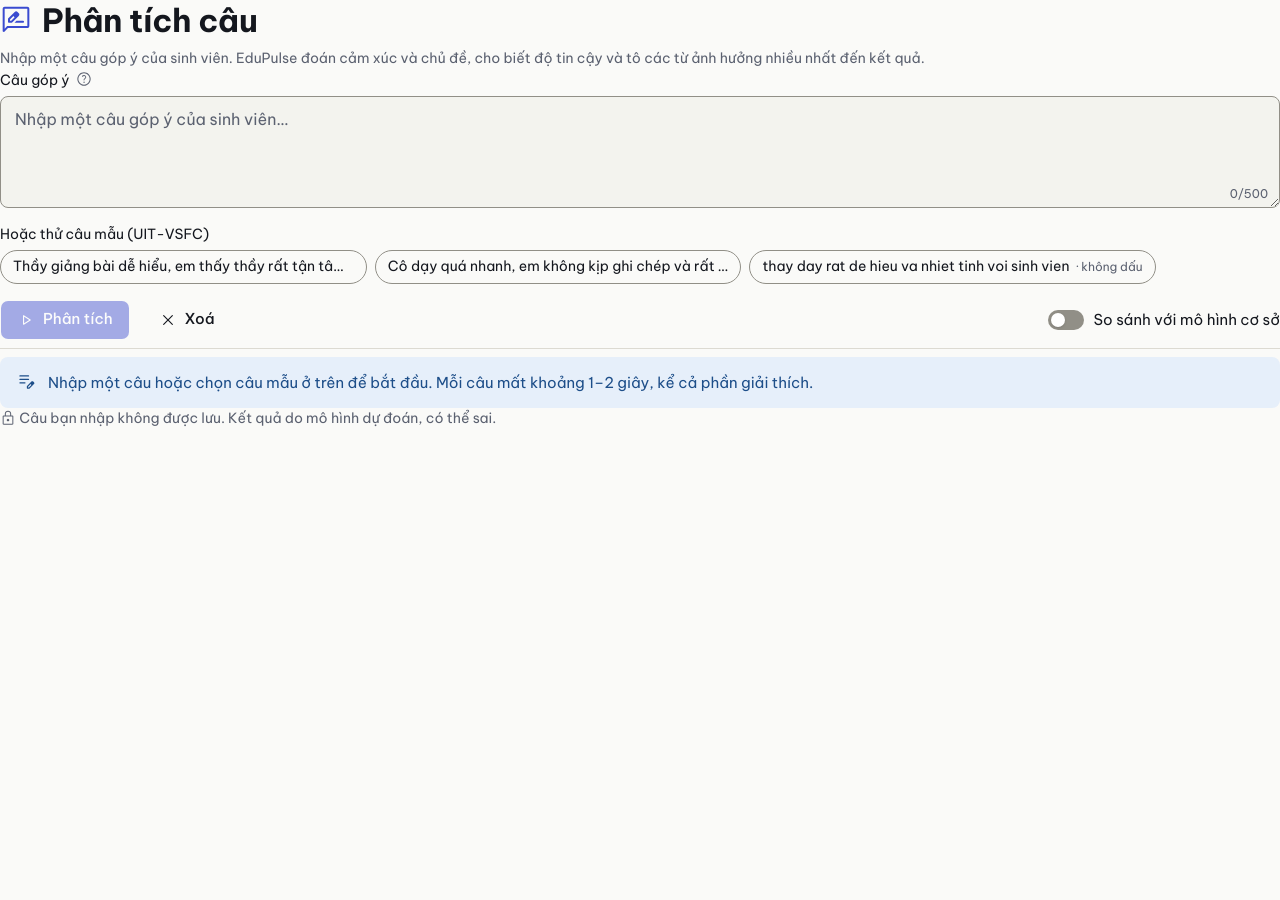
trang Phân tích câu › lỗi mạng: báo bằng tiếng Việt và cho thử lại
Step 1. Click the text box labelled "Câu góp ý" → (640, 152), box [0,96,1279,208]
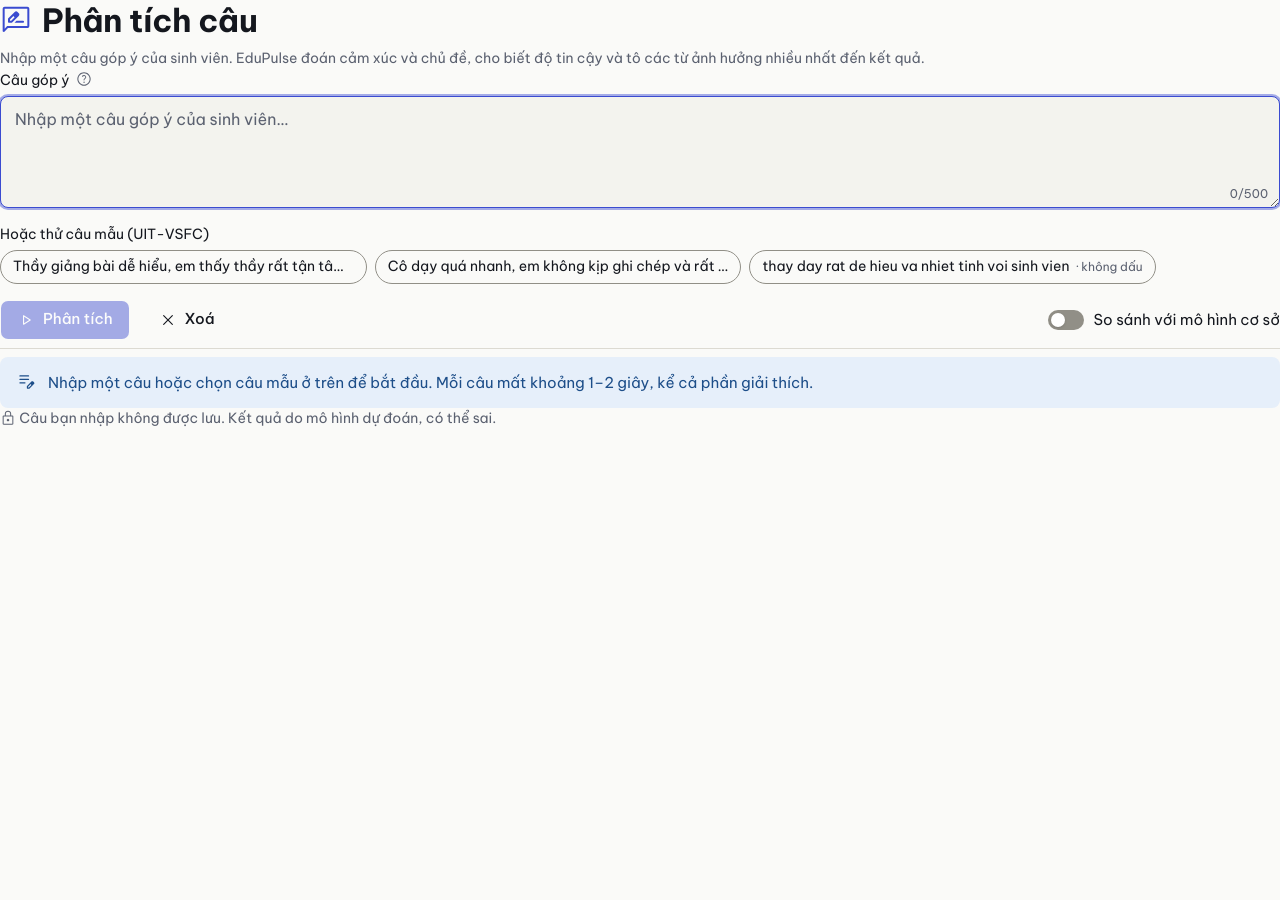
Step 2. Type keys "Cô dạy quá nhanh, em không kịp ghi chép và rất ít khi được hỏi lại."
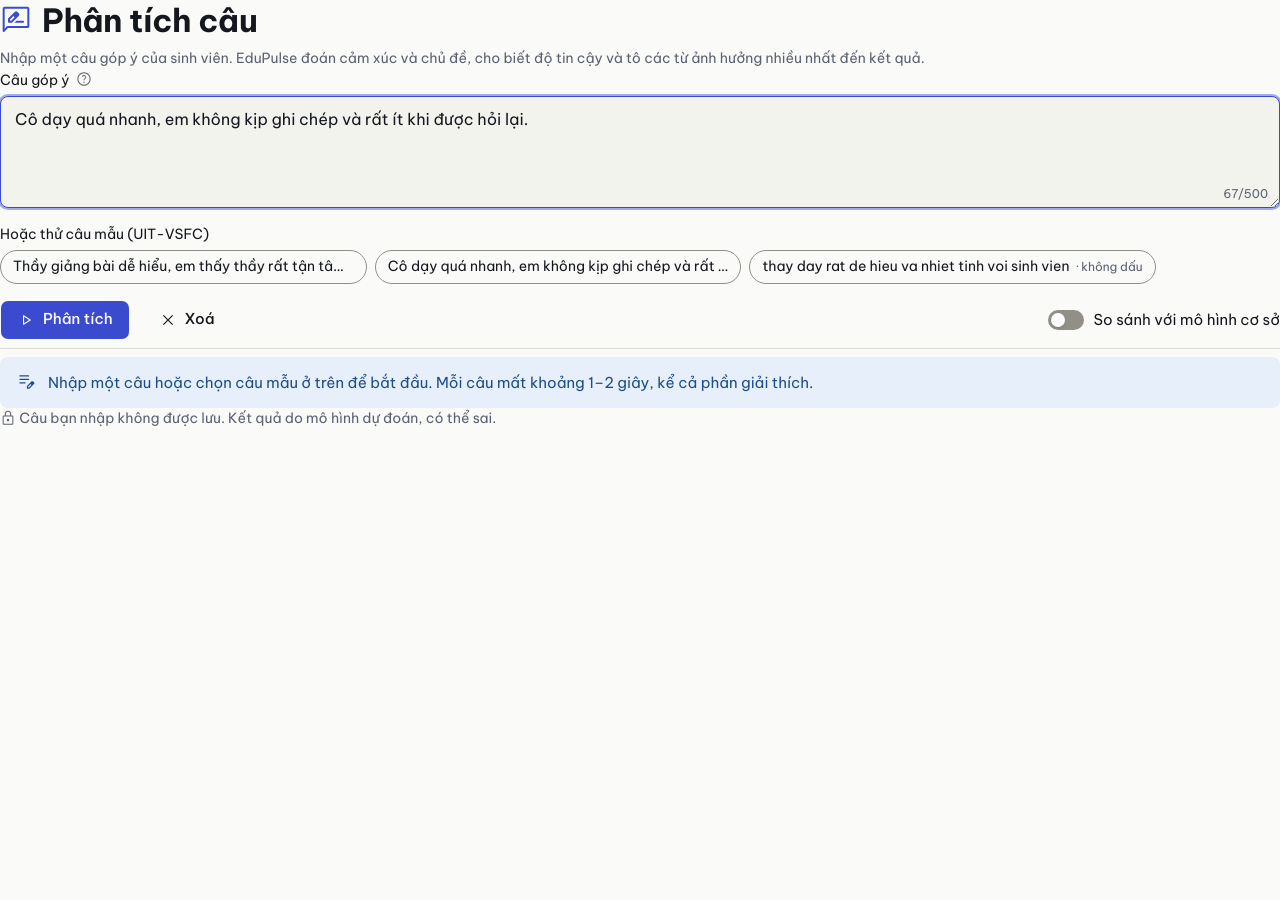
Step 3. Click the button "Phân tích" → (65, 320), box [0,300,130,340]
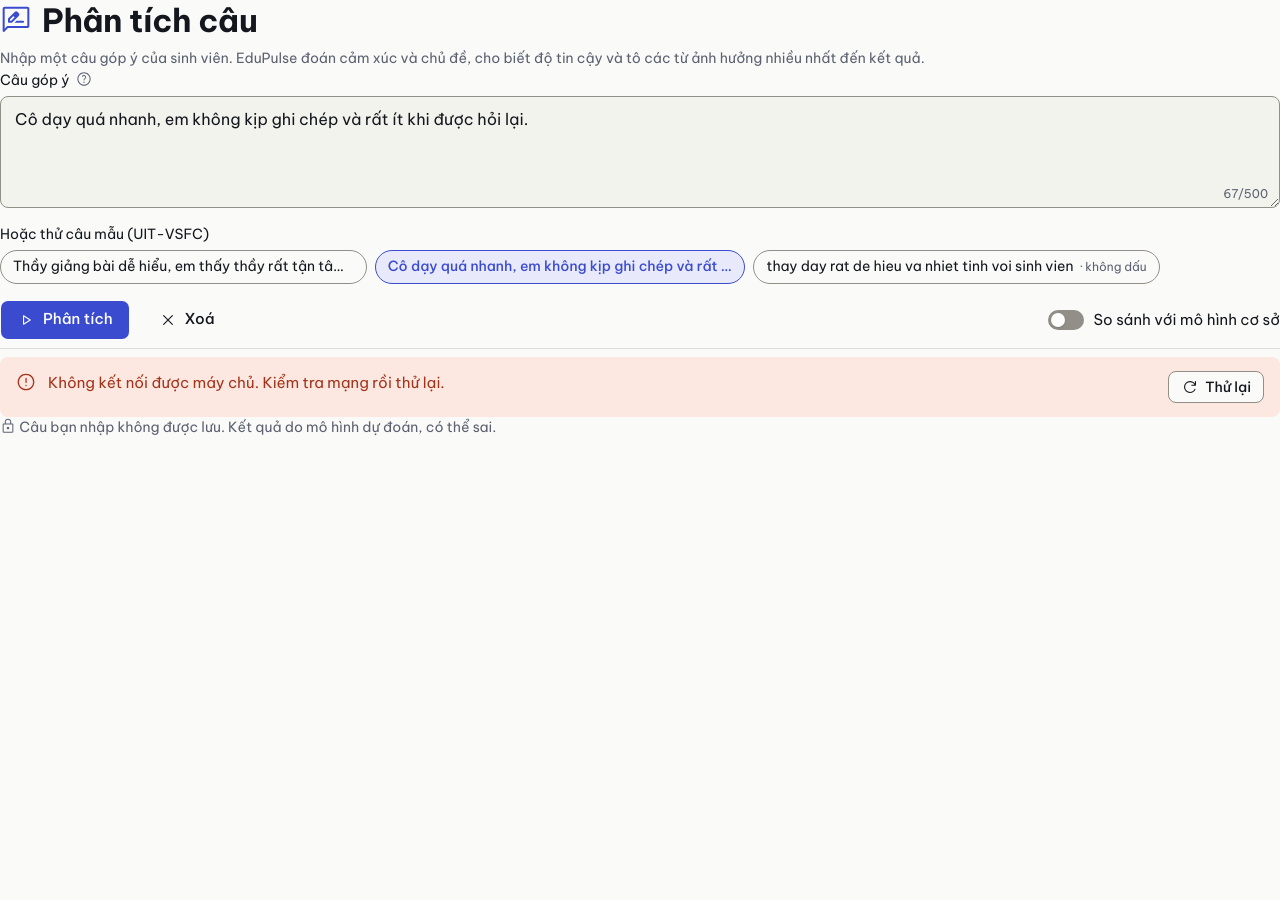
Expected: the message shows "Không kết nối được máy chủ", [48,373,445,392]
Step 4. Click the button "Thử lại" → (1216, 387), box [1168,371,1264,403]
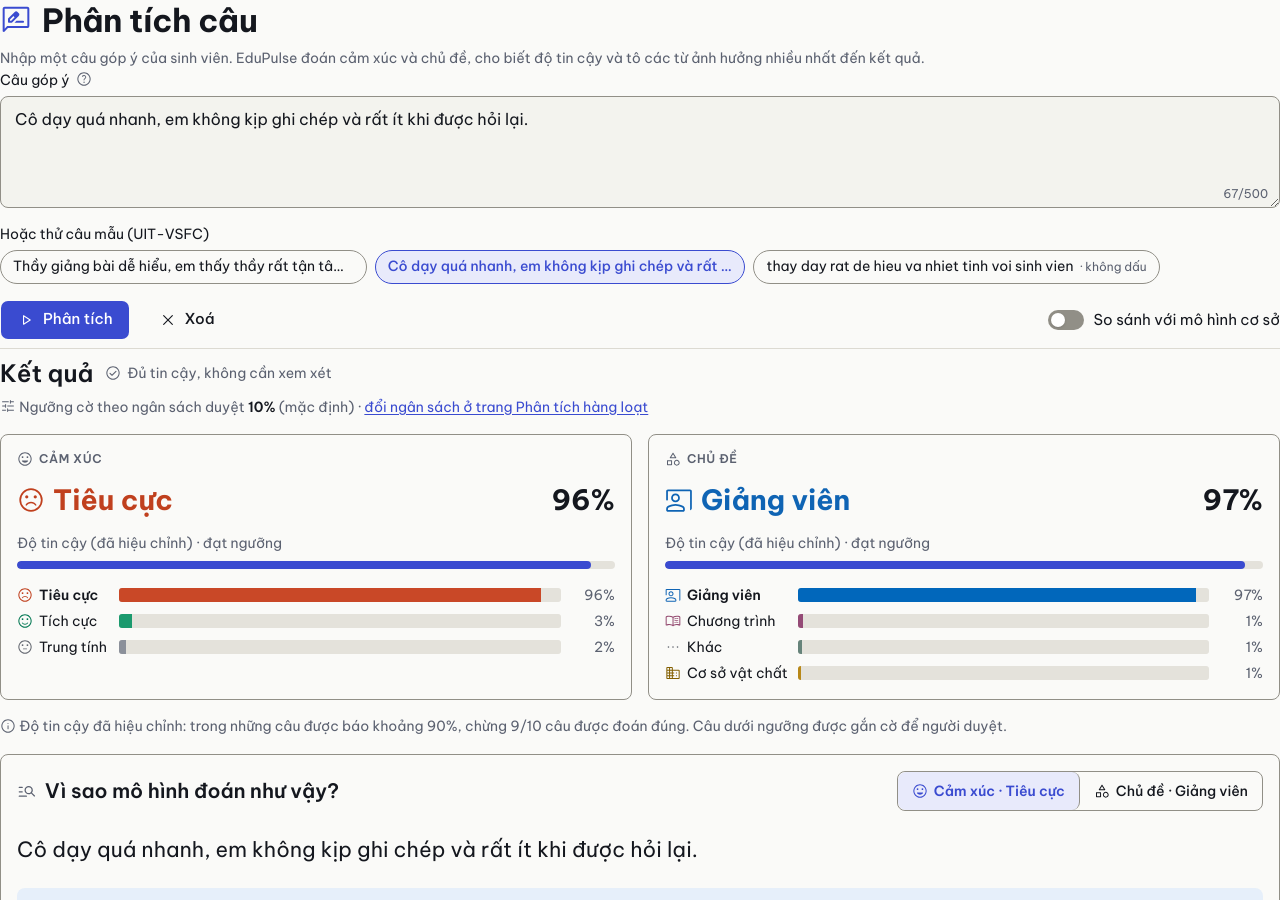
Expected: the heading "Kết quả" is shown, [0,357,93,389]
